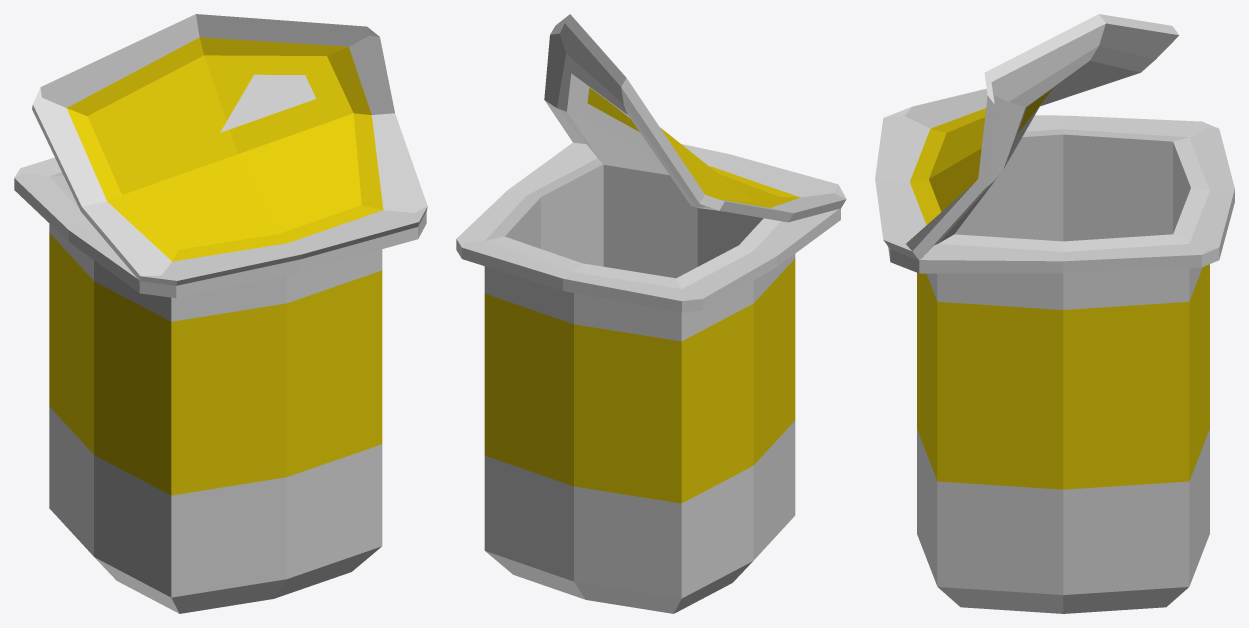
File: pot_yaourt_banane.fbx
3 views of the same model, side by side, from view 1: azimuth 30°, elevation 25°; view 2: azimuth 150°, elevation 25°; view 3: azimuth 270°, elevation 25° (orthographic). The views are drawn at different scales.
Visible parts, largest first — view 1: pot_yaoourt; view 2: pot_yaoourt; view 3: pot_yaoourt.
Part boxes in pixels (x1,y1,x2,y2): pot_yaoourt: (14,14,427,613); pot_yaoourt: (456,14,846,613); pot_yaoourt: (875,14,1234,613).
Size of the model in its own units: 101 by 175 by 104.
